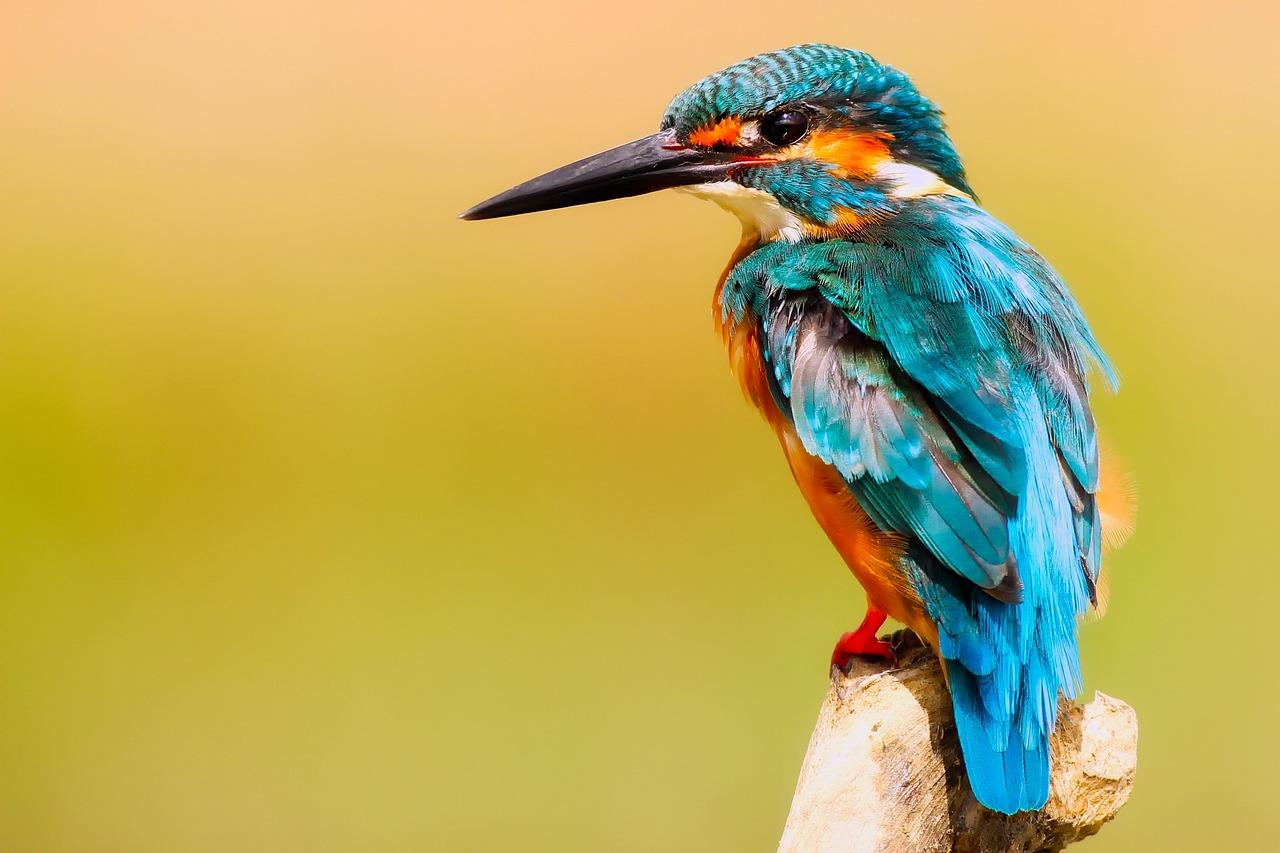bird: (464, 44, 1134, 822)
